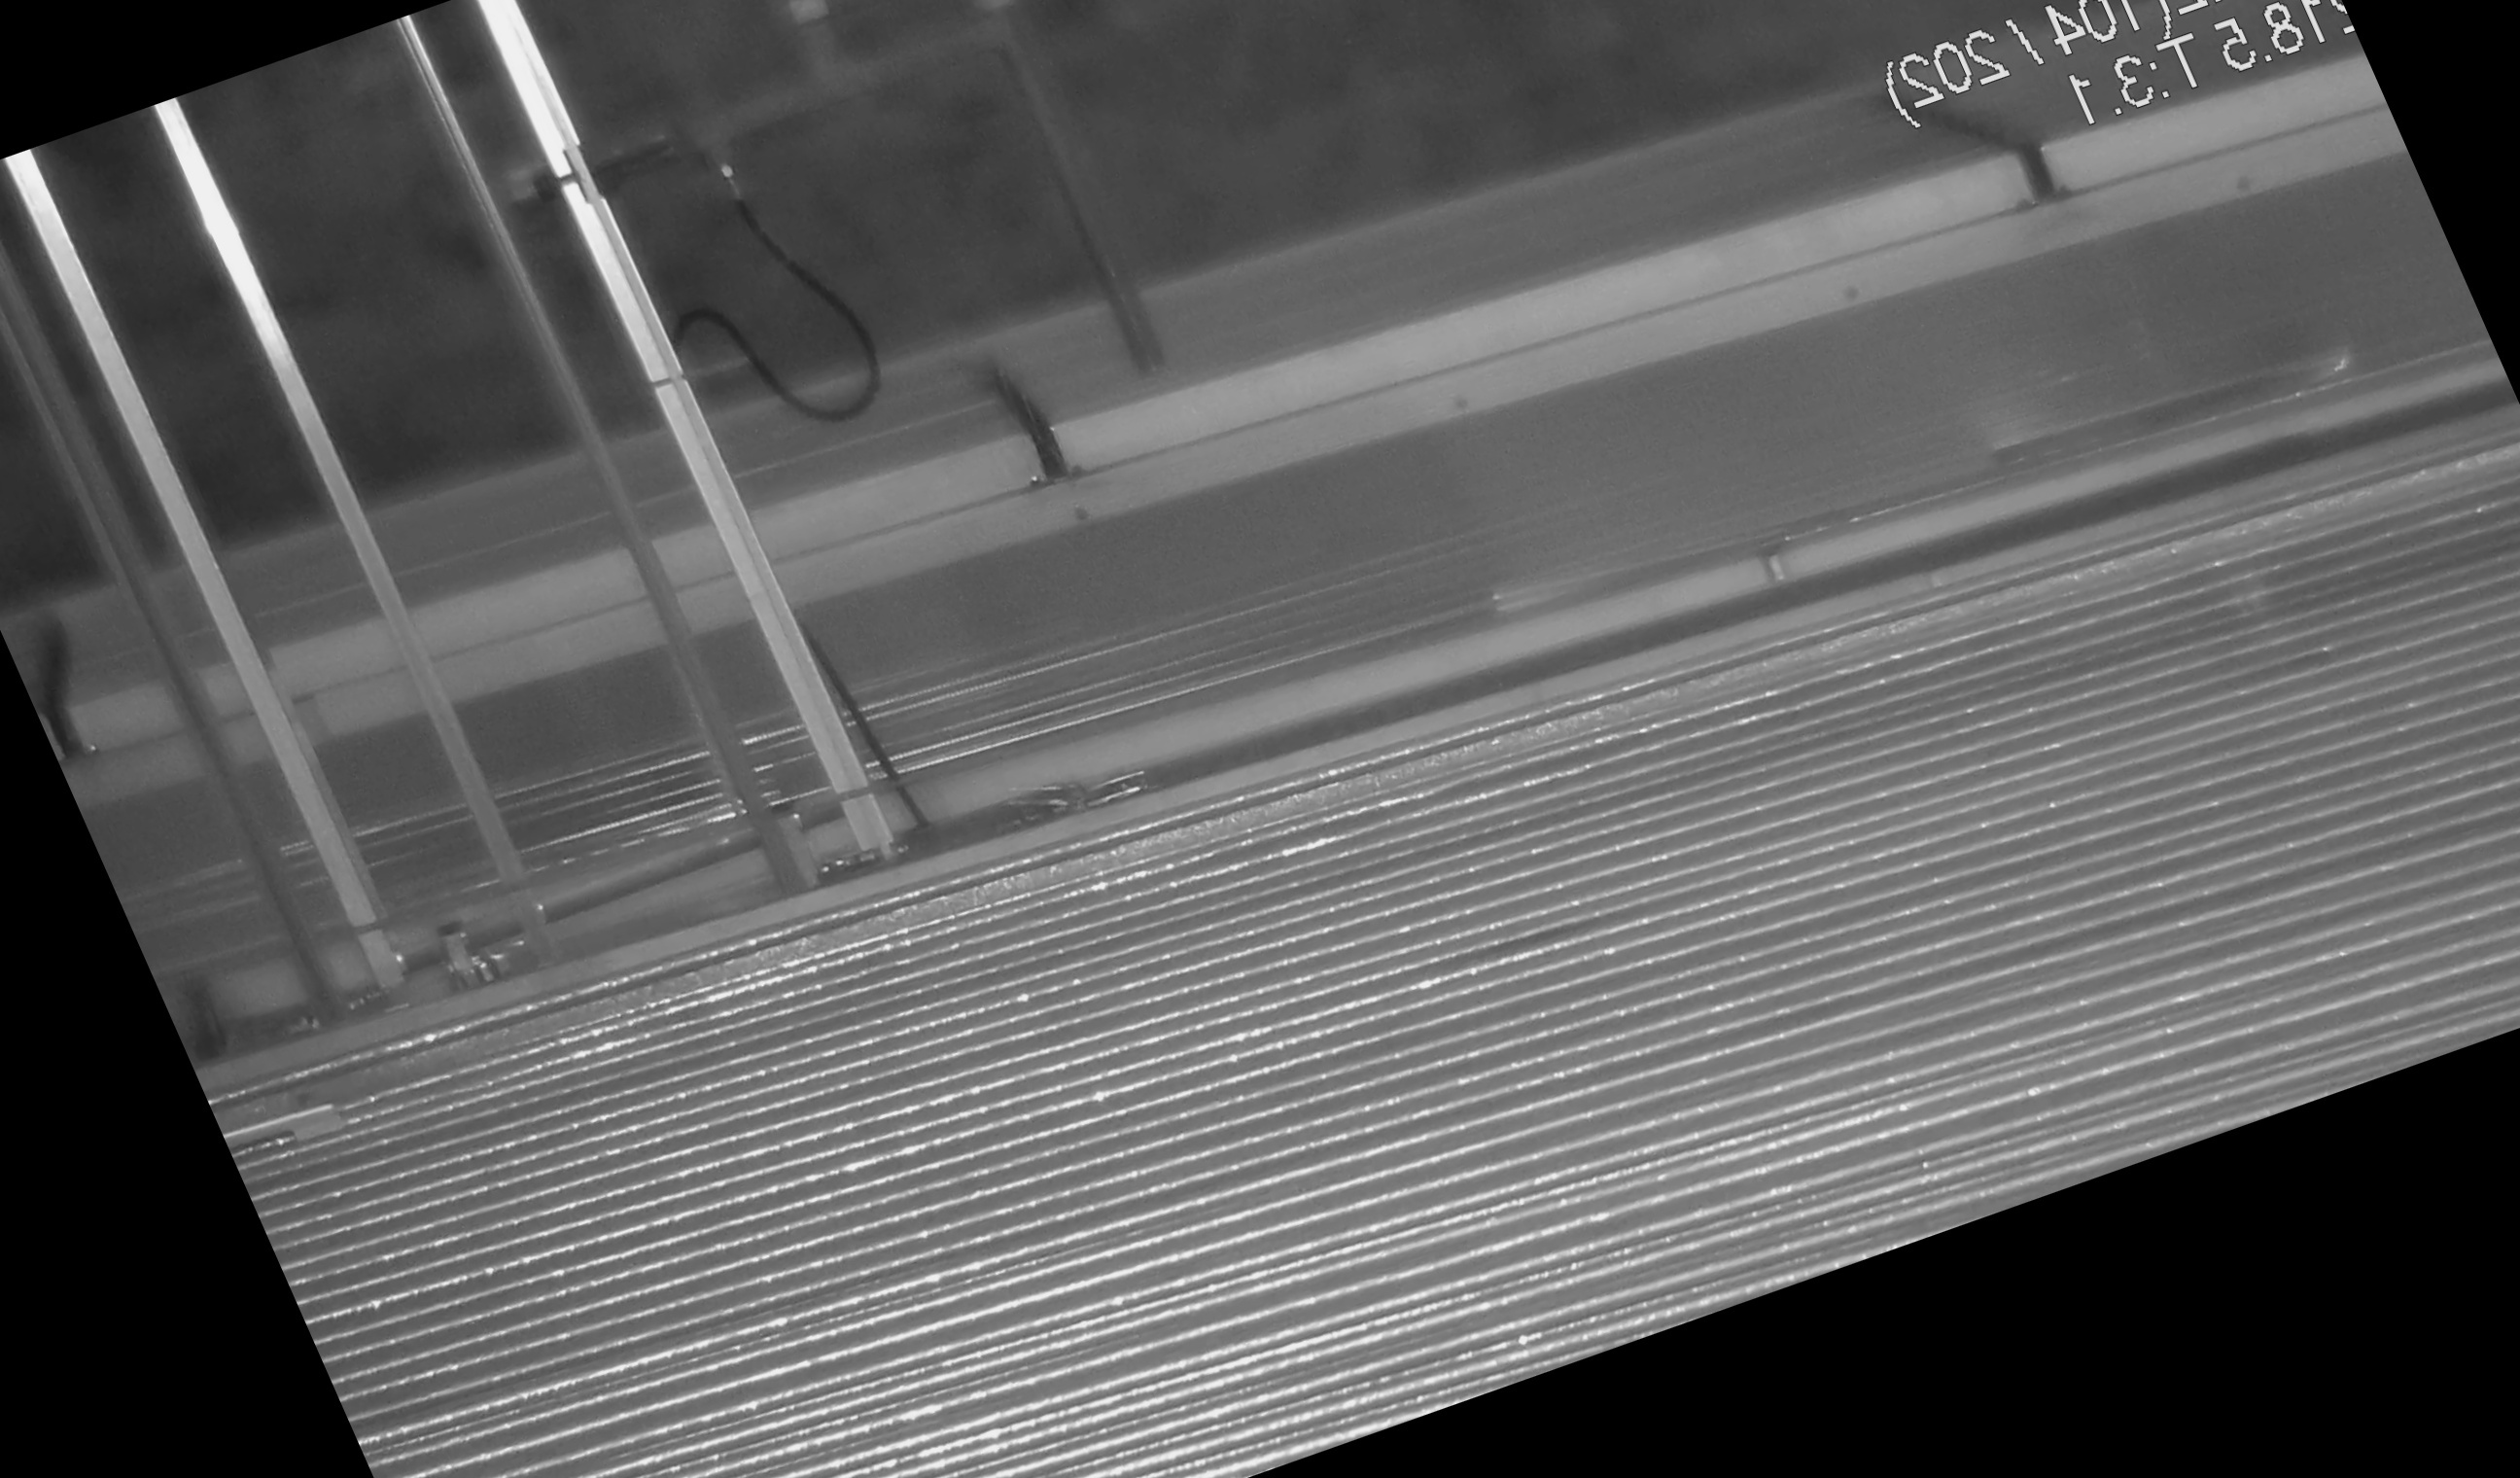Other: (946, 327, 1092, 501)
